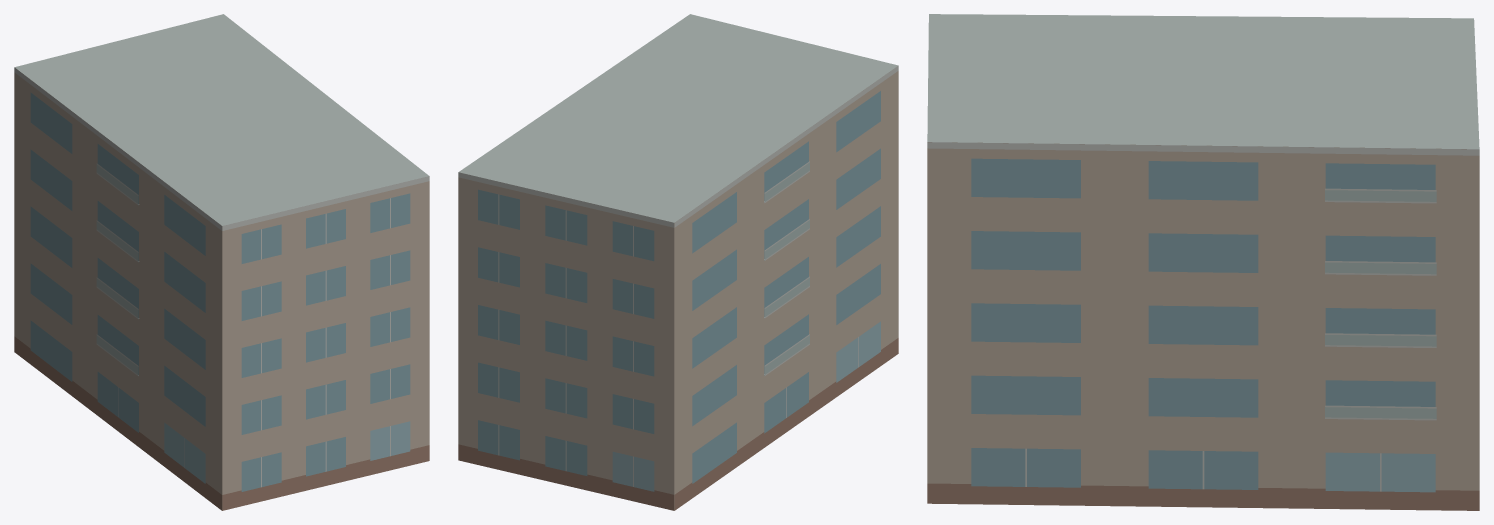
Rendered from survey-upis-32773709.glb.
3 renders of one model, left to right at view 1: azimuth 30°, elevation 25°; view 2: azimuth 150°, elevation 25°; view 3: azimuth 270°, elevation 25°, orthographic. The views are drawn at different scales.
Visible parts, largest first — view 1: survey-upis-32773709.tmp; view 2: survey-upis-32773709.tmp; view 3: survey-upis-32773709.tmp.
Boxes of the visible parts, x1=… form: survey-upis-32773709.tmp: x1=14, y1=14, x2=429, y2=510; survey-upis-32773709.tmp: x1=458, y1=14, x2=898, y2=510; survey-upis-32773709.tmp: x1=927, y1=14, x2=1479, y2=510.
Bounding box in the file's own units: 11.04 × 13.75 × 19.04.
